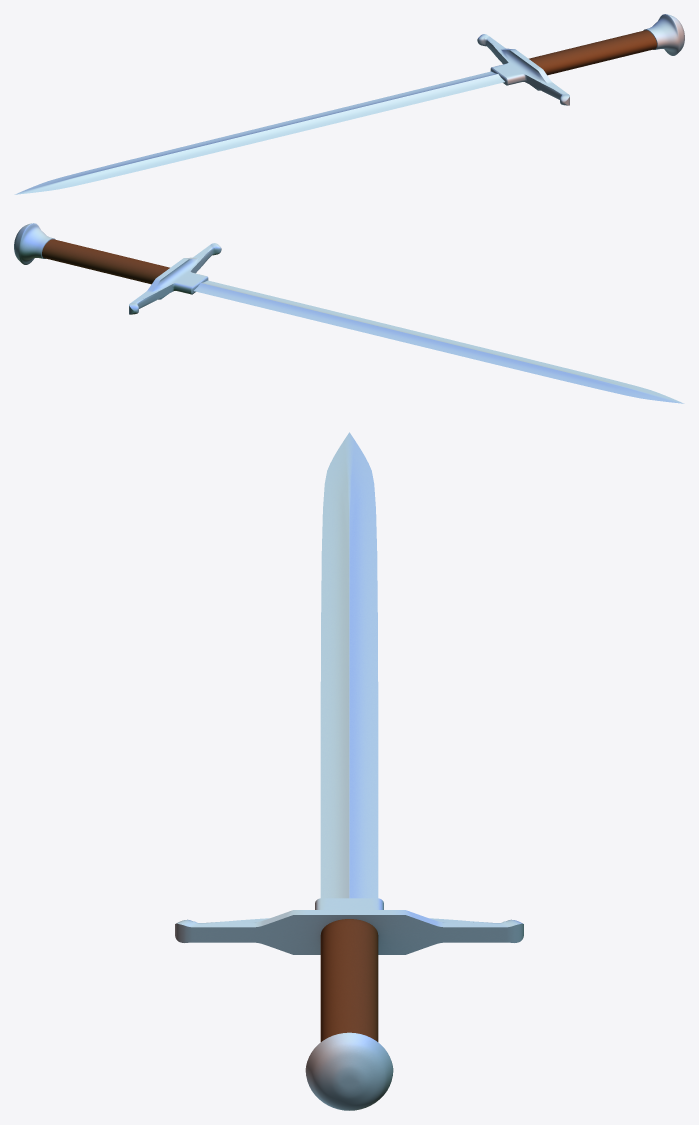
File: bastard_sword.glb
3 renders of one model, top to bottom at view 1: azimuth 30°, elevation 25°; view 2: azimuth 150°, elevation 25°; view 3: azimuth 270°, elevation 25°, orthographic. The views are drawn at different scales.
Parts seen in each view (by area): view 1: Object_2; view 2: Object_2; view 3: Object_2.
Part boxes in pixels (<box>): Object_2: <box>14,14,684,194</box>; Object_2: <box>14,223,684,403</box>; Object_2: <box>175,432,523,1110</box>.
Size of the model in its own units: 1.34 by 0.0746 by 0.3041.
1 material, 1 textured.
